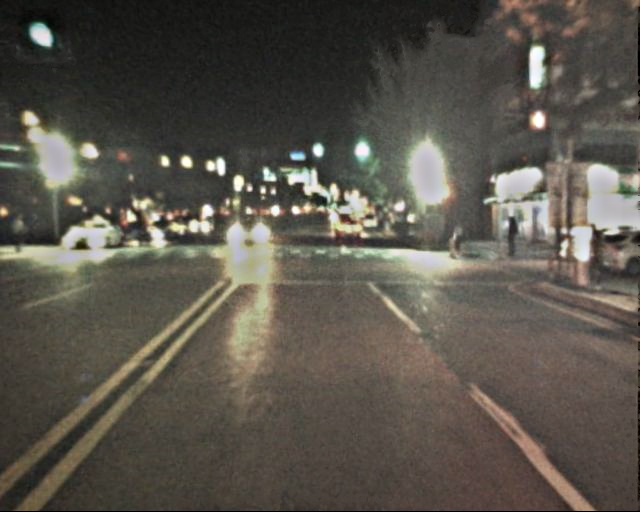person: (571, 222, 608, 297), (502, 216, 521, 263), (451, 220, 469, 263)
